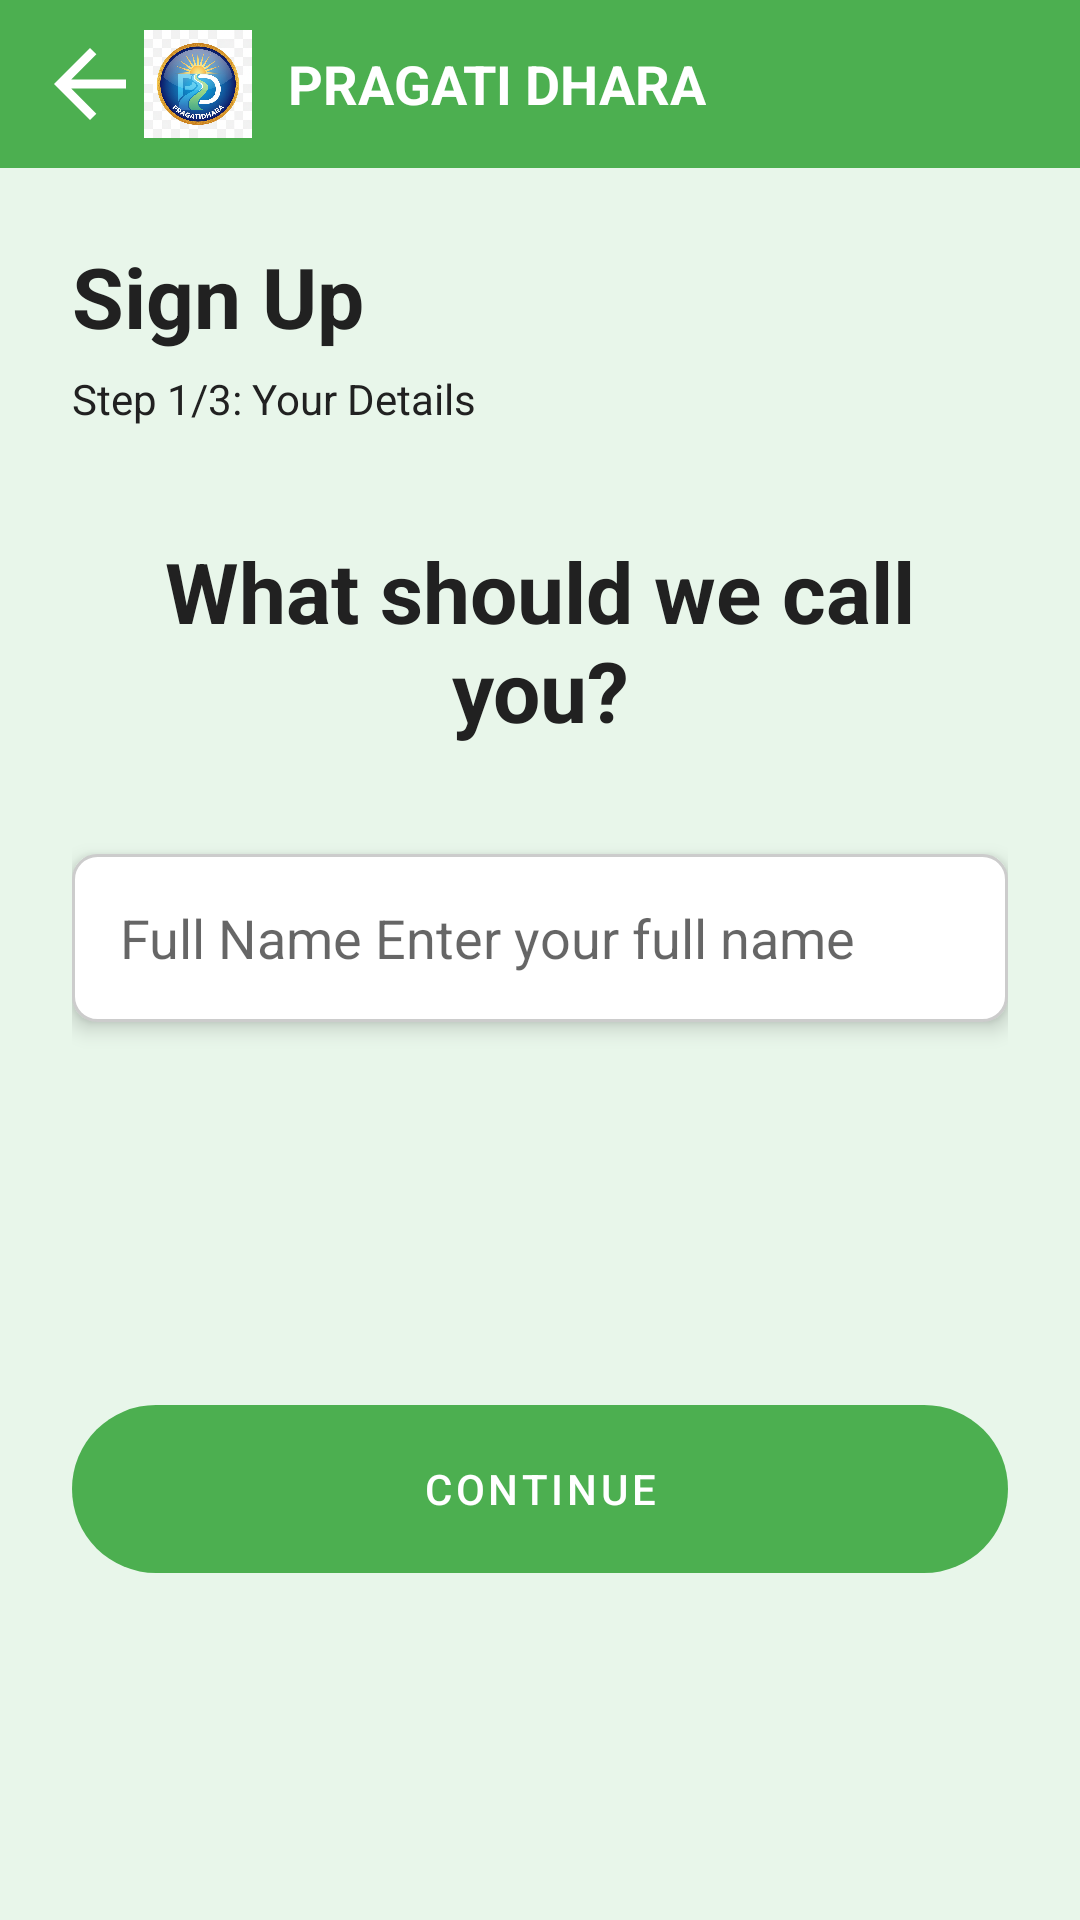

Icon bounding boxes for this 1080px x 1920px phone screenshot, format BBox(x1, y1, x2, y2):
Back: BBox(54, 48, 126, 120)
